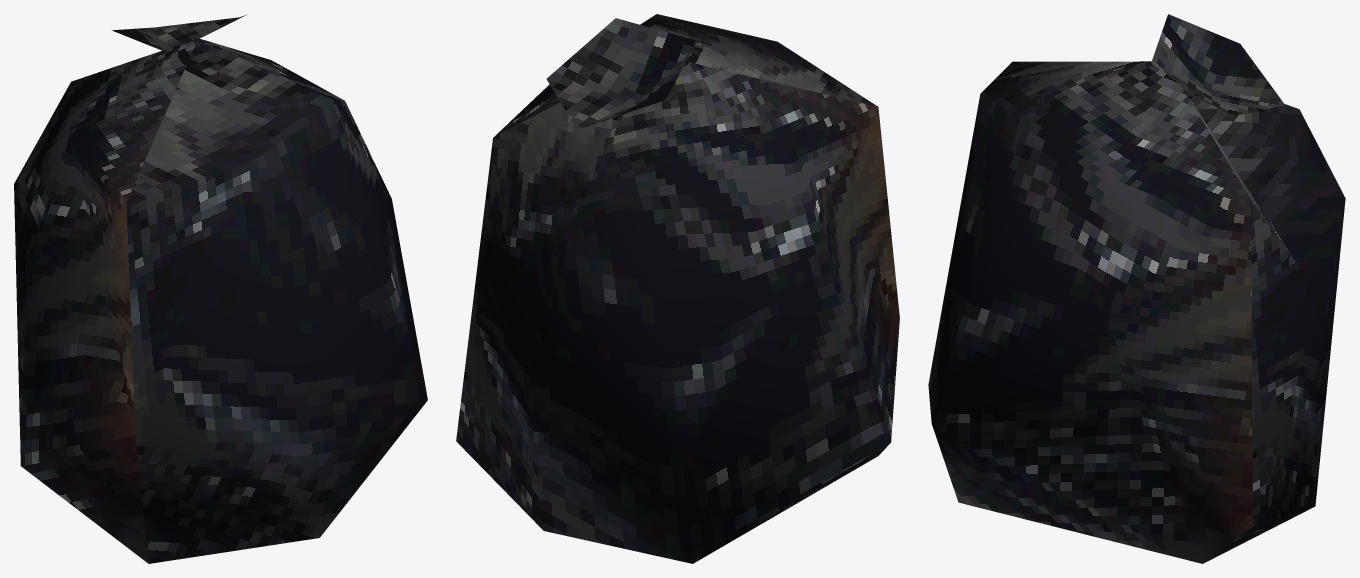
File: Garbage_Bag_01_black1.glb
The picture shows the model from 3 angles, left to right: view 1: azimuth 30°, elevation 25°; view 2: azimuth 150°, elevation 25°; view 3: azimuth 270°, elevation 25°; orthographic projection.
Parts seen in each view (by area): view 1: Garbage_Bag_01_black1; view 2: Garbage_Bag_01_black1; view 3: Garbage_Bag_01_black1.
Boxes of the visible parts, bbox=[...] form: Garbage_Bag_01_black1: bbox=[14, 14, 427, 563]; Garbage_Bag_01_black1: bbox=[456, 14, 899, 563]; Garbage_Bag_01_black1: bbox=[928, 14, 1345, 563].
Bounding box in the file's own units: 0.7012 × 0.8381 × 0.6848.
1 material, 1 textured.
